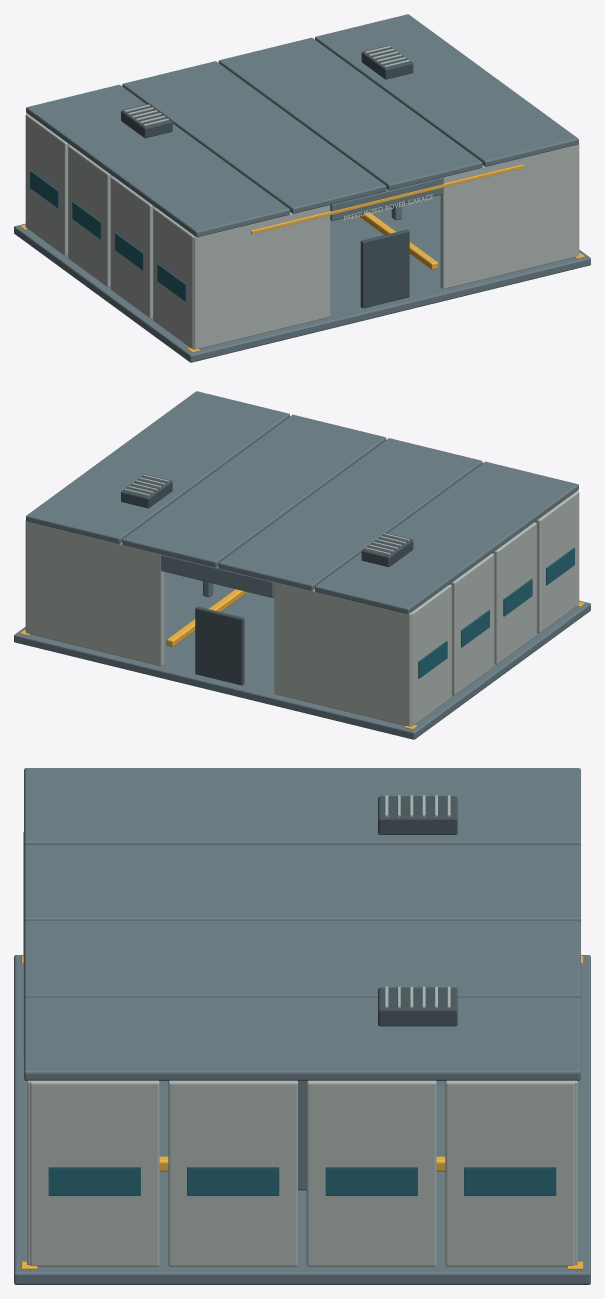
The model's file is industry_garage_d0.glb.
3 views of the same model, one above another, from view 1: azimuth 30°, elevation 25°; view 2: azimuth 150°, elevation 25°; view 3: azimuth 270°, elevation 25° (orthographic). The views are drawn at different scales.
Parts seen in each view (by area): view 1: Removable roof segment.042, Removable roof segment.041, Removable roof segment.040, Removable roof segment.043, End bulkhead.057, End bulkhead.056, Foundation.024, Side pressure panel.094, Side pressure panel.093, Side pressure panel.095, Side pressure panel.092, Sealed airlock.016 (+9 smaller); view 2: Removable roof segment.042, Removable roof segment.041, Removable roof segment.040, End bulkhead.059, Removable roof segment.043, End bulkhead.058, Foundation.024, Side pressure panel.093, Side pressure panel.094, Side pressure panel.092, Side pressure panel.095, Sealed airlock.017 (+8 smaller); view 3: Removable roof segment.043, Removable roof segment.041, Removable roof segment.042, Removable roof segment.040, Foundation.024, Side pressure panel.098, Side pressure panel.097, Side pressure panel.096, Side pressure panel.099, Roof heat exchanger.021, Roof heat exchanger.020, Observation glass.084 (+4 smaller).
Boxes of the visible parts, x1,y1,x2,y2 form: Removable roof segment.042: [218, 37, 482, 190]; Removable roof segment.041: [122, 61, 386, 213]; Removable roof segment.040: [26, 84, 289, 237]; Removable roof segment.043: [315, 14, 578, 166]; End bulkhead.057: [440, 144, 578, 289]; End bulkhead.056: [193, 205, 330, 349]; Foundation.024: [14, 195, 590, 362]; Side pressure panel.094: [68, 145, 112, 287]; Side pressure panel.093: [110, 176, 154, 318]; Side pressure panel.095: [25, 114, 69, 256]; Side pressure panel.092: [153, 207, 193, 349]; Sealed airlock.016: [360, 229, 409, 308]; Removable roof segment.042: [122, 414, 386, 567]; Removable roof segment.041: [218, 438, 482, 590]; Removable roof segment.040: [315, 461, 578, 614]; End bulkhead.059: [26, 521, 164, 666]; Removable roof segment.043: [26, 391, 289, 543]; End bulkhead.058: [274, 582, 411, 726]; Foundation.024: [14, 572, 590, 739]; Side pressure panel.093: [492, 522, 536, 664]; Side pressure panel.094: [450, 553, 494, 695]; Side pressure panel.092: [535, 491, 579, 633]; Side pressure panel.095: [411, 584, 451, 726]; Sealed airlock.017: [195, 606, 244, 685]; Removable roof segment.043: [24, 997, 580, 1080]; Removable roof segment.041: [24, 844, 580, 922]; Removable roof segment.042: [24, 921, 580, 998]; Removable roof segment.040: [24, 768, 580, 845]; Foundation.024: [14, 955, 590, 1284]; Side pressure panel.098: [306, 1080, 436, 1266]; Side pressure panel.097: [168, 1080, 297, 1266]; Side pressure panel.096: [30, 1080, 159, 1266]; Side pressure panel.099: [445, 1080, 574, 1266]; Roof heat exchanger.021: [378, 987, 457, 1026]; Roof heat exchanger.020: [378, 796, 457, 834]; Observation glass.084: [48, 1167, 140, 1195].
Size of the model in its own units: 17 by 5.61 by 13.
